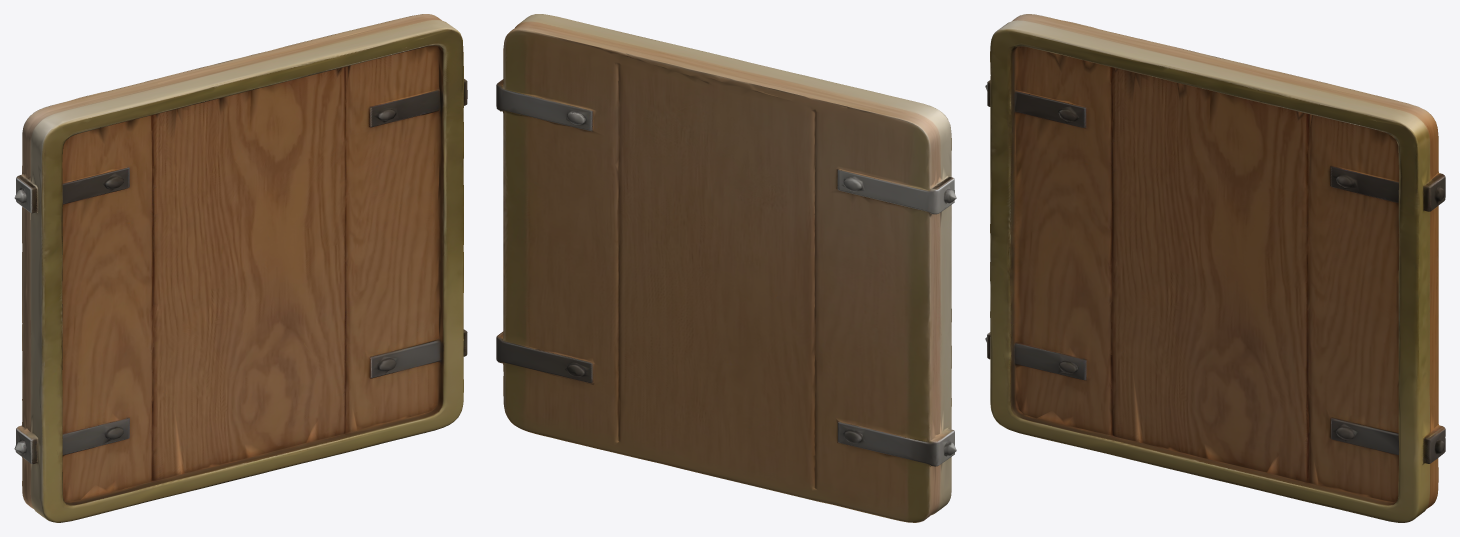
File: wind_shield.glb
3 renders of one model, left to right at view 1: azimuth 30°, elevation 25°; view 2: azimuth 150°, elevation 25°; view 3: azimuth 330°, elevation 25°, orthographic.
Parts seen in each view (by area): view 1: tripo_node_6fea14d2-a029-47eb-a969-5bffe3051b04; view 2: tripo_node_6fea14d2-a029-47eb-a969-5bffe3051b04; view 3: tripo_node_6fea14d2-a029-47eb-a969-5bffe3051b04.
Part boxes in pixels (left/top/right/bottom): tripo_node_6fea14d2-a029-47eb-a969-5bffe3051b04: left=14, top=14, right=467, bottom=522; tripo_node_6fea14d2-a029-47eb-a969-5bffe3051b04: left=496, top=14, right=956, bottom=522; tripo_node_6fea14d2-a029-47eb-a969-5bffe3051b04: left=985, top=14, right=1445, bottom=522.
Bounding box in the file's own units: 0.33 × 0.28 × 0.035.
Materials: 1 (1 with a texture image).
